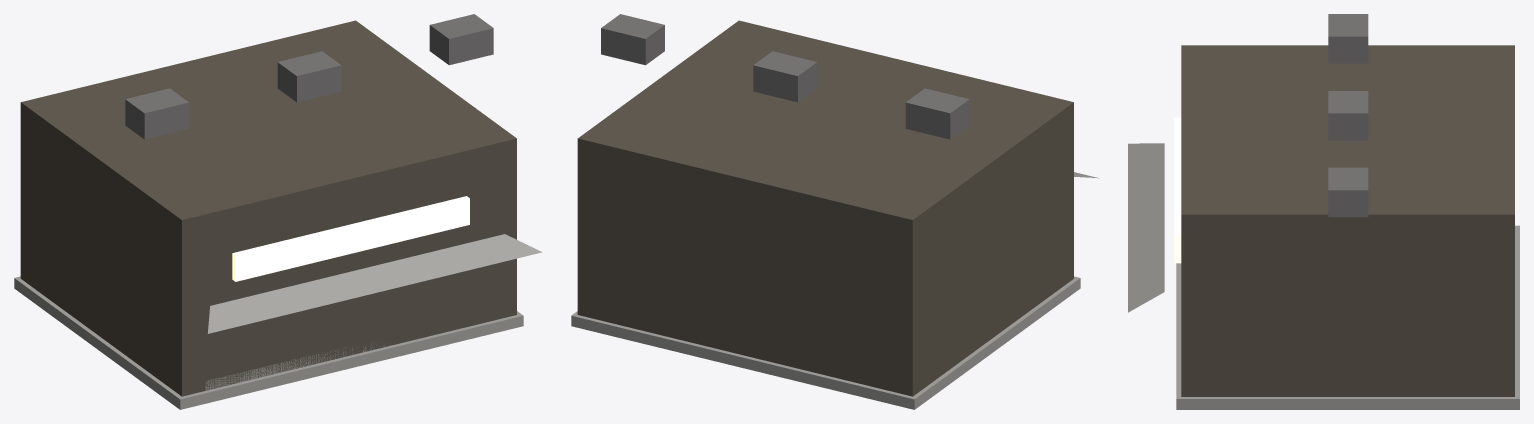
File: b_shop2.glb
The picture shows the model from 3 angles, left to right: view 1: azimuth 30°, elevation 25°; view 2: azimuth 150°, elevation 25°; view 3: azimuth 270°, elevation 25°; orthographic projection. The views are drawn at different scales.
Parts seen in each view (by area): view 1: Building; view 2: Building; view 3: Building.
Boxes of the visible parts, left/top/right/bottom form: Building: left=14, top=14, right=542, bottom=409; Building: left=571, top=14, right=1098, bottom=409; Building: left=1128, top=14, right=1519, bottom=409.
Size of the model in its own units: 13.86 by 8 by 11.75.
6 materials, 2 textured.
